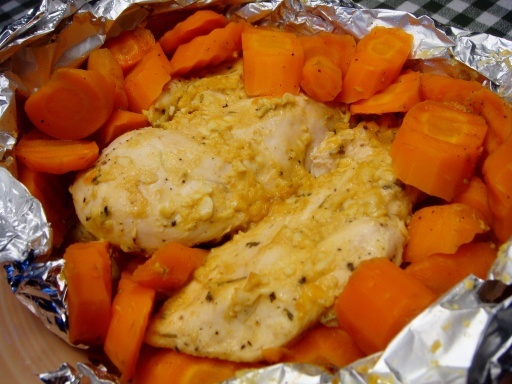background: (9, 5, 409, 230)
